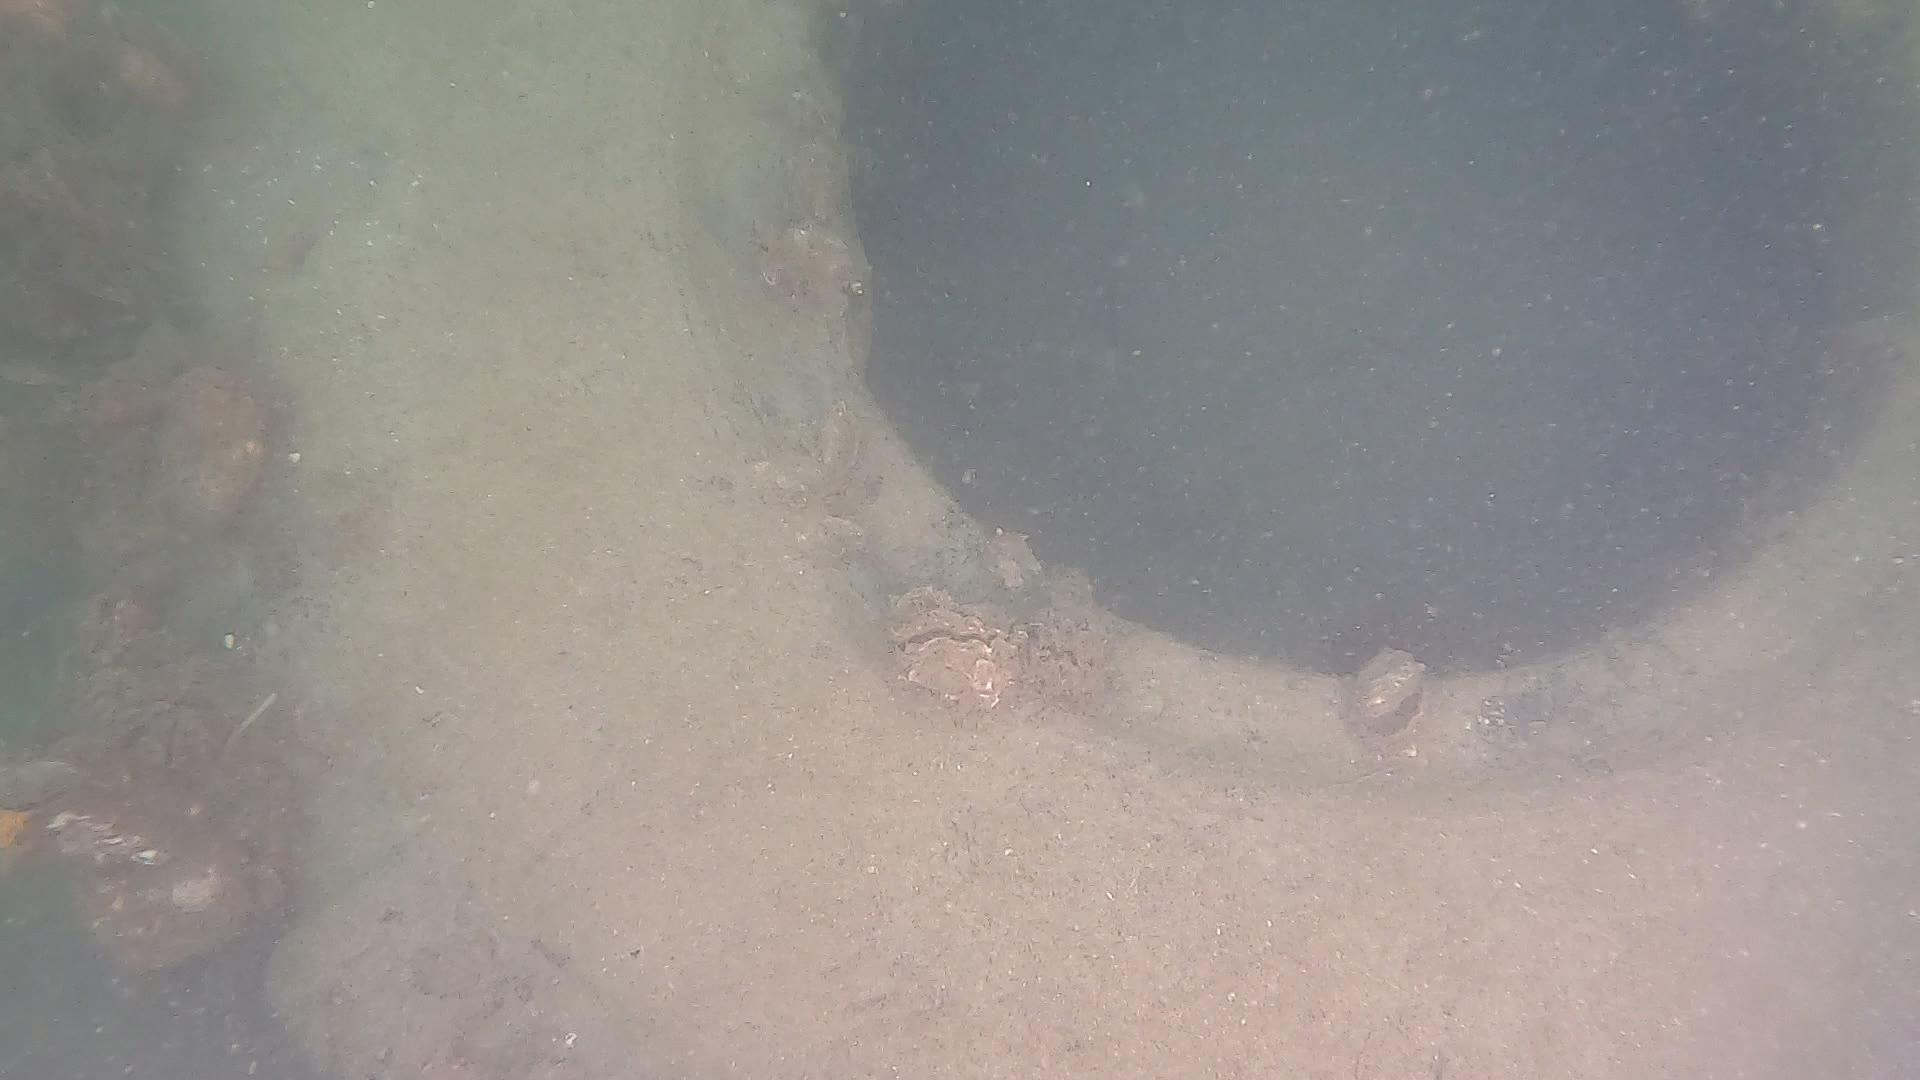tire: (164, 0, 1920, 1080)
